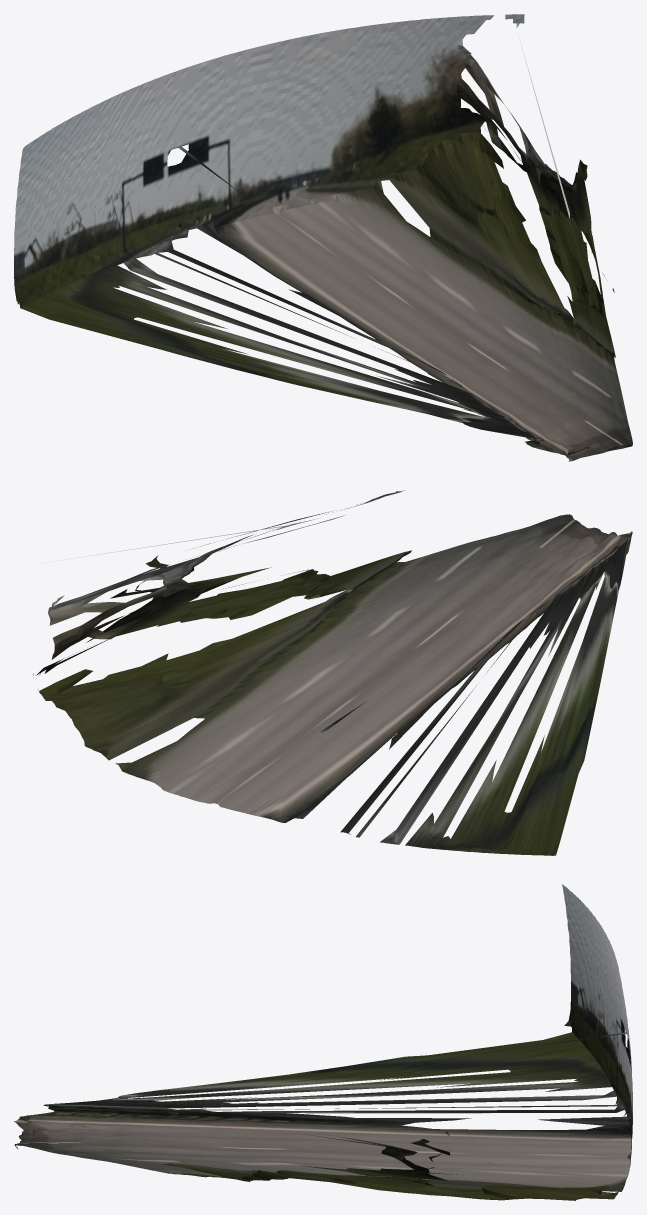
3 renders of one model, top to bottom at view 1: azimuth 30°, elevation 25°; view 2: azimuth 150°, elevation 25°; view 3: azimuth 270°, elevation 25°, orthographic. The views are drawn at different scales.
Visible parts, largest first — view 1: defaultobject; view 2: defaultobject; view 3: defaultobject.
Boxes of the visible parts, x1,y1,x2,y2 form: defaultobject: [14, 14, 632, 461]; defaultobject: [33, 490, 632, 855]; defaultobject: [14, 884, 632, 1200].
Bounding box in the file's own units: 38.25 × 13.08 × 44.73.
1 material, 1 textured.
